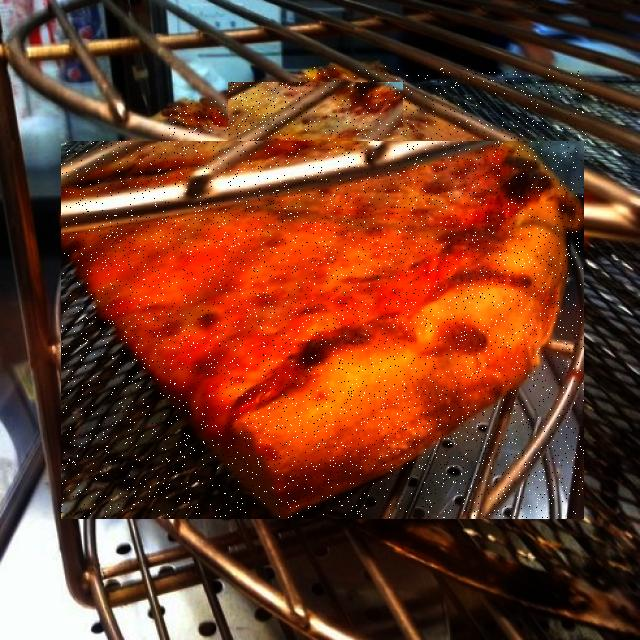Pizza: (61, 141, 584, 518), (302, 66, 586, 200), (229, 82, 404, 171), (231, 84, 403, 168), (162, 102, 234, 136)
